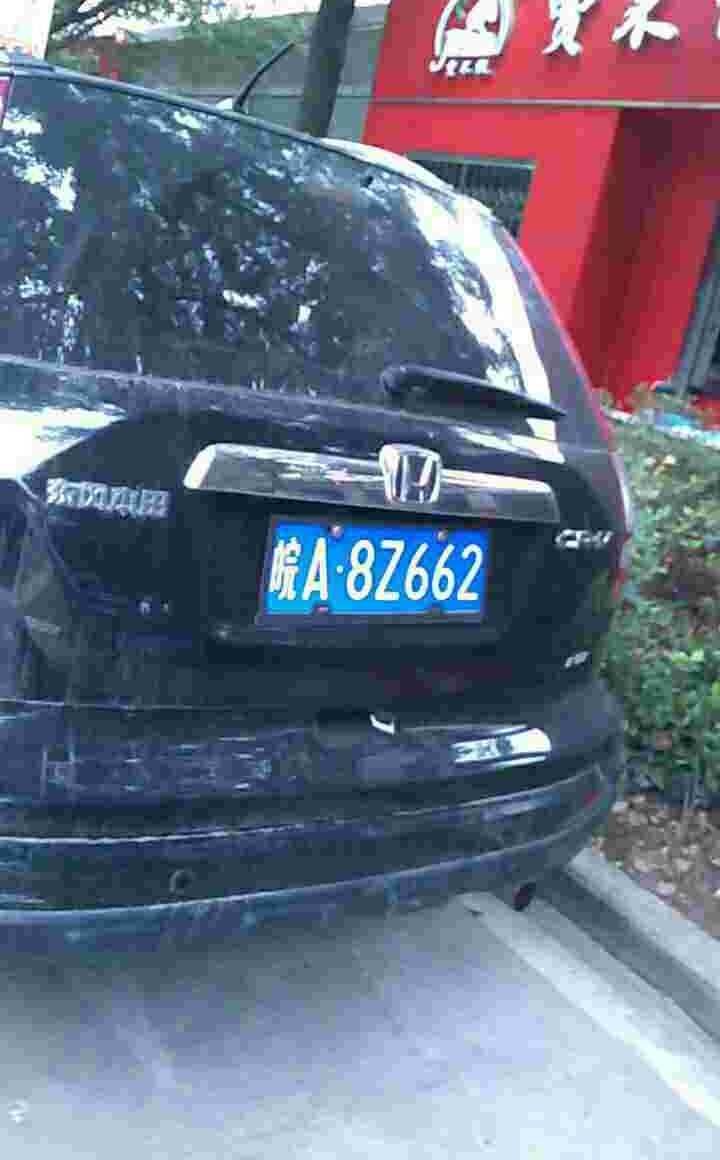plate: (270, 520, 501, 620)
